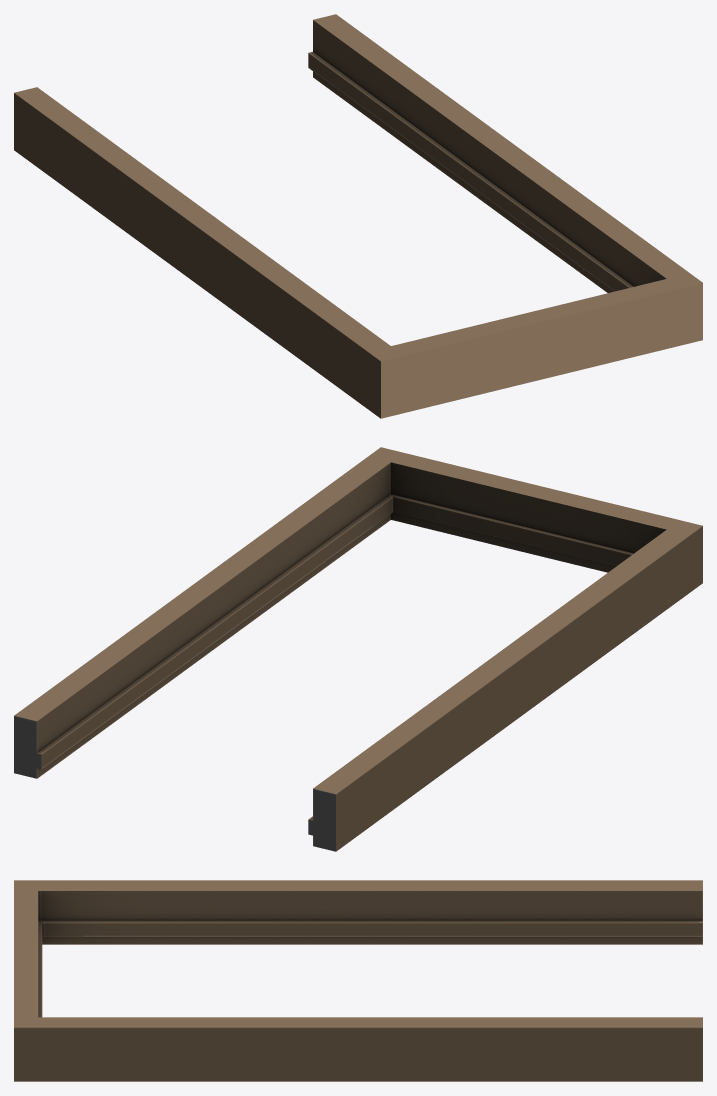
File: door_frame.obj
The picture shows the model from 3 angles, top to bottom: view 1: azimuth 30°, elevation 25°; view 2: azimuth 150°, elevation 25°; view 3: azimuth 270°, elevation 25°; orthographic projection. The views are drawn at different scales.
Parts seen in each view (by area): view 1: Door_Frame; view 2: Door_Frame; view 3: Door_Frame.
Boxes of the visible parts, left/top/right/bottom form: Door_Frame: left=14, top=14, right=702, bottom=418; Door_Frame: left=14, top=447, right=702, bottom=851; Door_Frame: left=14, top=880, right=702, bottom=1081.
Bounding box in the file's own units: 107 × 18.21 × 211.
1 material, 1 textured.
